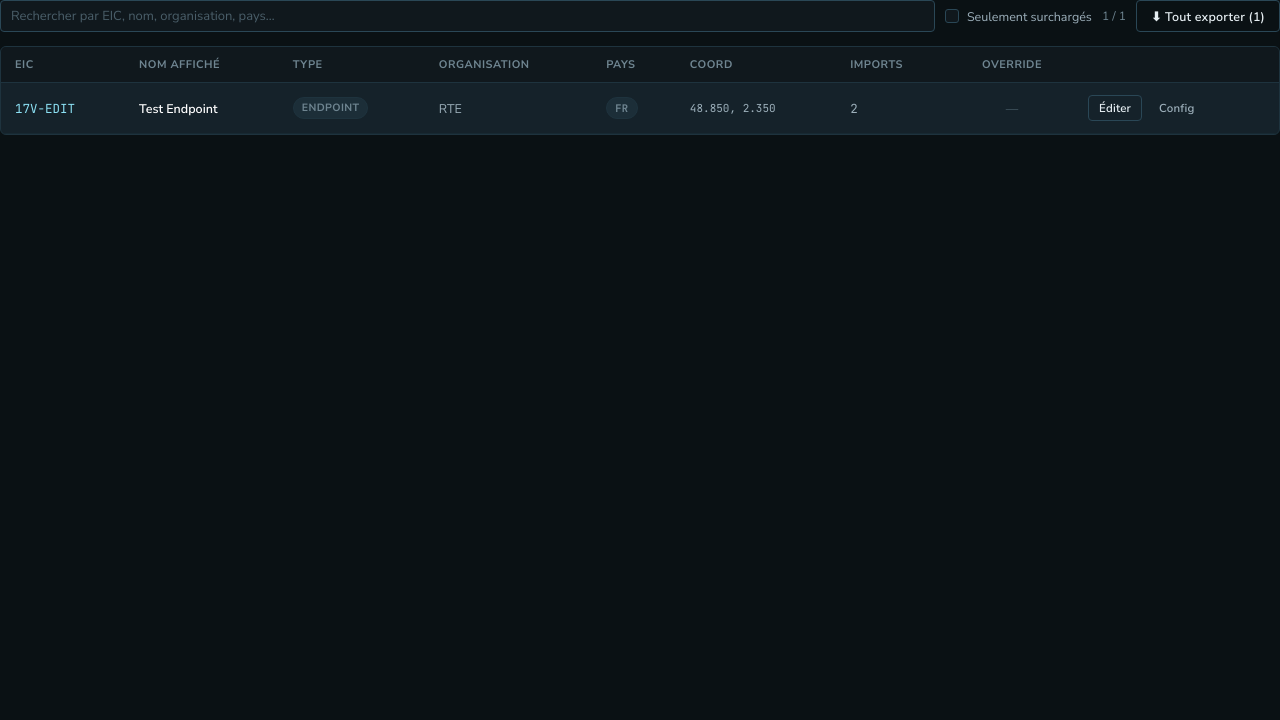
ComponentsAdminTable › opens override modal on edit click
The width and height of the screenshot is (1280, 720).
Expected: the text "17V-EDIT" is shown, [1,82,125,134]
Click the button "Éditer". click: [1115, 108]
box: [1088,95,1142,121]
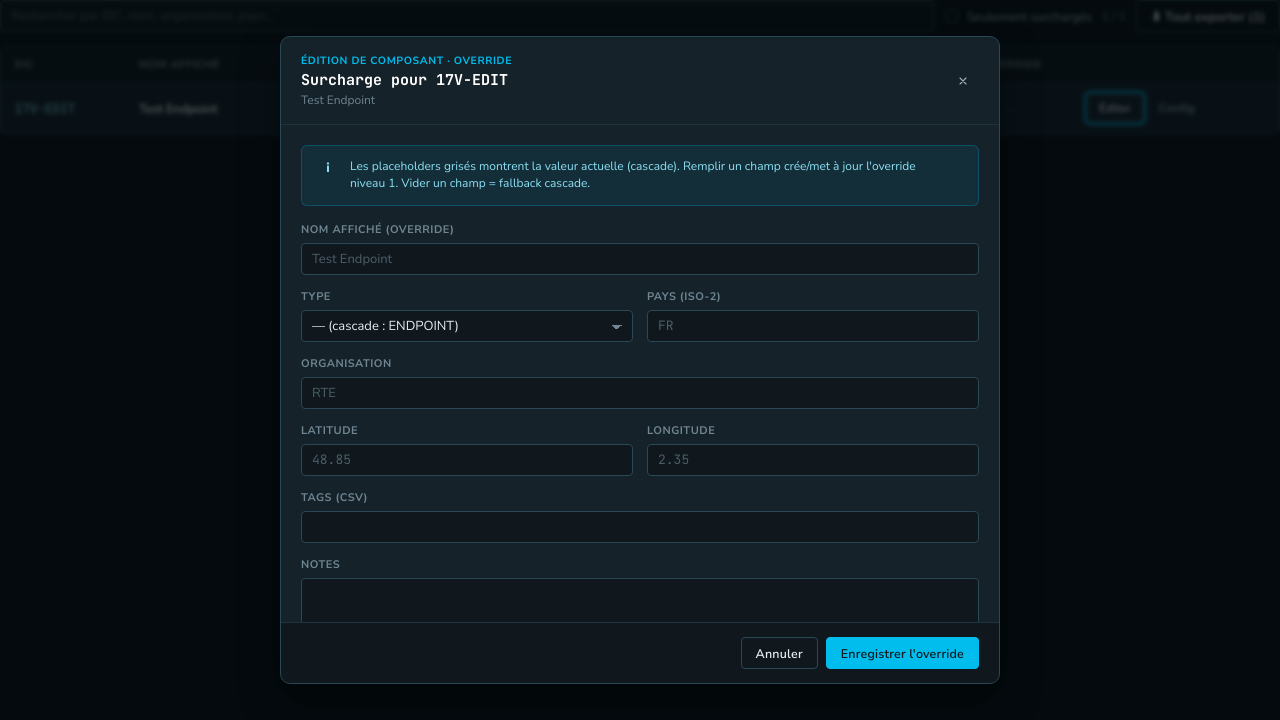
Now the heading "Surcharge pour 17V-EDIT" is shown, box [301,70,512,90]
